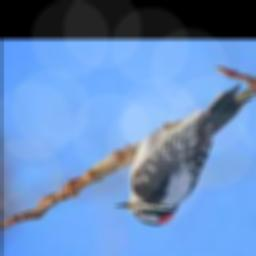Woodpecker: (115, 85, 252, 226)
